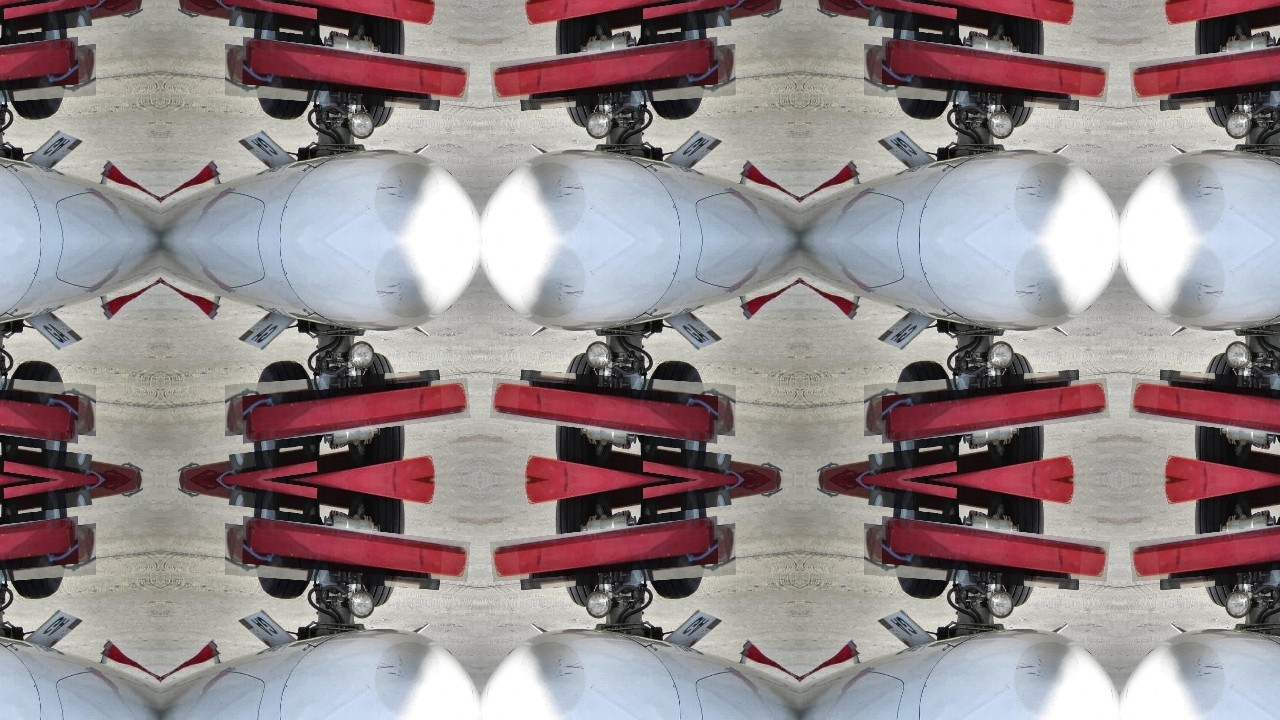chock: (242, 36, 470, 102), (490, 36, 718, 102), (882, 36, 1110, 102), (242, 378, 470, 444), (490, 378, 718, 444), (882, 378, 1110, 444), (242, 516, 470, 582), (490, 516, 718, 582), (882, 516, 1110, 582), (224, 43, 442, 110), (518, 43, 736, 110), (864, 43, 1082, 110), (224, 370, 442, 437), (518, 370, 736, 437), (864, 370, 1082, 437), (224, 523, 442, 590), (518, 523, 736, 590), (864, 523, 1082, 590), (1130, 36, 1280, 102), (1130, 378, 1280, 444), (1130, 516, 1280, 582), (1158, 43, 1280, 110), (1158, 370, 1280, 437), (1158, 523, 1280, 590), (0, 43, 96, 110), (0, 370, 96, 437), (0, 523, 96, 590), (189, 0, 367, 35), (593, 0, 771, 35), (829, 0, 1007, 35), (189, 445, 367, 480), (593, 445, 771, 480), (829, 445, 1007, 480), (189, 480, 367, 515), (593, 480, 771, 515), (829, 480, 1007, 515), (237, 0, 438, 29), (522, 0, 723, 29), (877, 0, 1078, 29), (237, 451, 438, 480), (522, 451, 723, 480), (877, 451, 1078, 480), (237, 480, 438, 509), (522, 480, 723, 509), (877, 480, 1078, 509), (0, 36, 78, 102), (0, 378, 78, 444), (0, 516, 78, 582), (3, 0, 143, 36), (177, 0, 317, 36), (643, 0, 783, 36), (817, 0, 957, 36), (3, 444, 143, 480), (177, 444, 317, 480), (643, 444, 783, 480), (817, 444, 957, 480), (3, 480, 143, 516), (177, 480, 317, 516), (643, 480, 783, 516), (817, 480, 957, 516), (0, 0, 131, 35), (0, 445, 131, 480), (0, 480, 131, 515), (1162, 0, 1280, 29), (1162, 451, 1280, 480), (1162, 480, 1280, 509), (0, 0, 83, 29), (0, 451, 83, 480), (0, 480, 83, 509), (1233, 0, 1280, 35), (1233, 445, 1280, 480), (1233, 480, 1280, 515)
wheel: (251, 0, 321, 122), (639, 0, 709, 122), (891, 0, 961, 122), (251, 358, 321, 480), (639, 358, 709, 480), (891, 358, 961, 480), (251, 480, 321, 602), (639, 480, 709, 602), (891, 480, 961, 602), (0, 0, 69, 122), (0, 358, 69, 480), (0, 480, 69, 602), (347, 12, 407, 130), (553, 12, 613, 130), (987, 12, 1047, 130), (1193, 12, 1253, 130), (347, 350, 407, 468), (553, 350, 613, 468), (987, 350, 1047, 468), (1193, 350, 1253, 468), (347, 492, 407, 610), (553, 492, 613, 610), (987, 492, 1047, 610), (1193, 492, 1253, 610)
